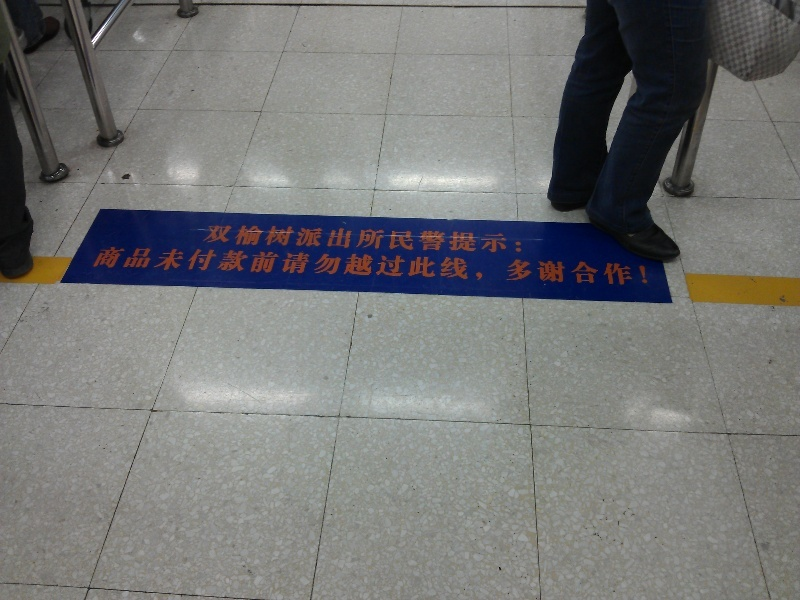text: (113, 243, 128, 288), (129, 243, 144, 288), (145, 243, 160, 288), (161, 243, 176, 288), (177, 243, 192, 288), (193, 243, 208, 288), (209, 243, 224, 288), (225, 243, 240, 288), (241, 243, 256, 288), (257, 243, 272, 288), (273, 243, 288, 288), (289, 243, 304, 288), (305, 243, 320, 288), (321, 243, 336, 288), (337, 243, 352, 288), (353, 243, 368, 288), (369, 243, 384, 288), (385, 243, 400, 288), (401, 243, 416, 288), (417, 243, 432, 288), (433, 243, 448, 288), (449, 243, 464, 288), (465, 243, 480, 288), (481, 243, 496, 288), (497, 243, 512, 288), (513, 243, 528, 288), (529, 243, 544, 288), (545, 243, 560, 288), (561, 243, 576, 288), (577, 243, 592, 288), (593, 243, 608, 288), (609, 243, 624, 288), (625, 243, 640, 288), (641, 243, 653, 288), (513, 223, 529, 254), (209, 223, 224, 254), (225, 223, 240, 254), (241, 223, 256, 254), (257, 223, 272, 254), (273, 223, 288, 254), (289, 223, 304, 254), (305, 223, 320, 254), (321, 223, 336, 254), (337, 223, 352, 254), (353, 223, 368, 254), (369, 223, 384, 254), (385, 223, 400, 254), (401, 223, 416, 254), (417, 223, 432, 254), (433, 223, 448, 254), (449, 223, 464, 254), (465, 223, 480, 254), (481, 223, 496, 254), (497, 223, 512, 254), (104, 243, 112, 288), (206, 223, 208, 254)
